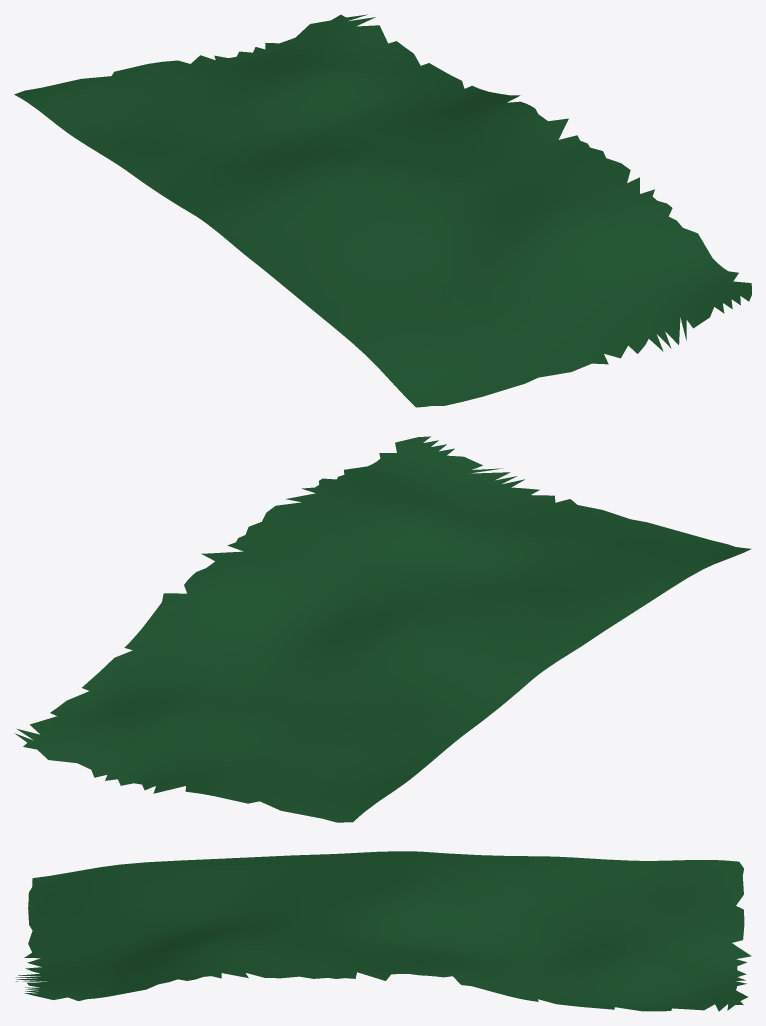
Rendered from payo_land_x4_ym2.glb.
The picture shows the model from 3 angles, top to bottom: view 1: azimuth 30°, elevation 25°; view 2: azimuth 150°, elevation 25°; view 3: azimuth 270°, elevation 25°; orthographic projection. The views are drawn at different scales.
Parts seen in each view (by area): view 1: payo_land_x4_ym2; view 2: payo_land_x4_ym2; view 3: payo_land_x4_ym2.
Boxes of the visible parts, x1,y1,x2,y2 form: payo_land_x4_ym2: (14,14,751,407); payo_land_x4_ym2: (14,436,750,822); payo_land_x4_ym2: (15,851,751,1011).
Bounding box in the file's own units: 130 × 20.71 × 266.
